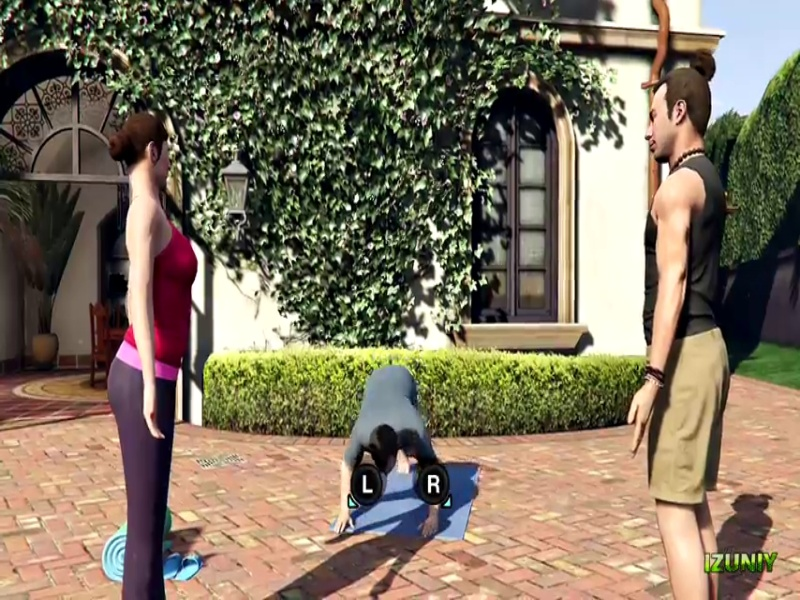human: (336, 358, 461, 535)
